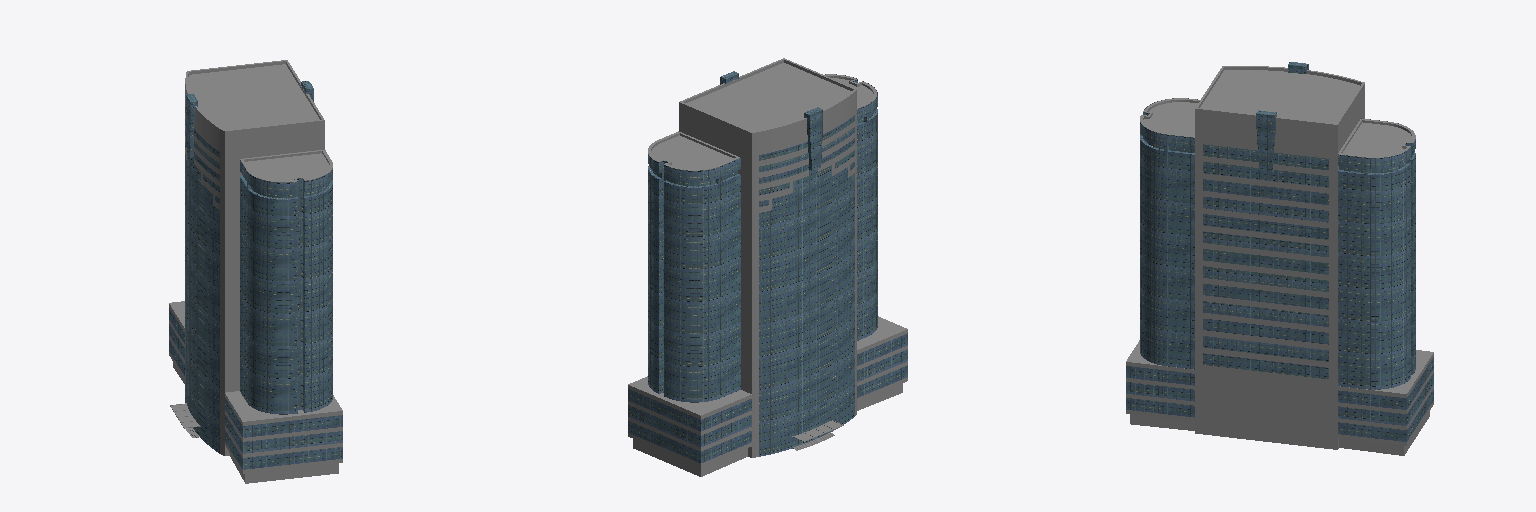
3 renders of one model, left to right at view 1: azimuth 30°, elevation 25°; view 2: azimuth 150°, elevation 25°; view 3: azimuth 270°, elevation 25°, orthographic.
Visible parts, largest first — view 1: JZ_JX_03; view 2: JZ_JX_03; view 3: JZ_JX_03.
Boxes of the visible parts, <box> form: JZ_JX_03: <box>169,60,342,483</box>; JZ_JX_03: <box>628,58,907,476</box>; JZ_JX_03: <box>1126,62,1433,455</box>.
Size of the model in its own units: 3913 by 8045 by 6819.
Materials: 4 (1 with a texture image).